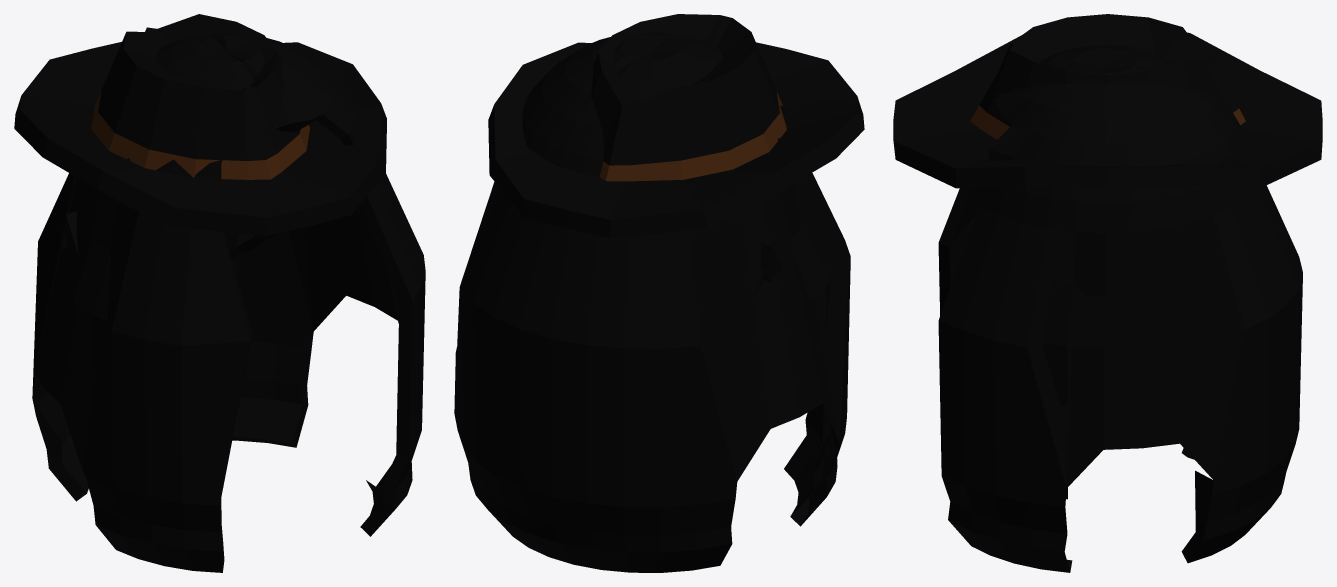
File: PersPartsPack2.fbx
3 views of the same model, side by side, from view 1: azimuth 30°, elevation 25°; view 2: azimuth 150°, elevation 25°; view 3: azimuth 270°, elevation 25° (orthographic). The views are drawn at different scales.
Visible parts, largest first — view 1: NesteaHairLong, Hat, Beard; view 2: NesteaHairLong, Hat, Beard; view 3: NesteaHairLong, Hat.
Boxes of the visible parts, box(x1,y1,x2,y2) form: NesteaHairLong: box(32, 33, 425, 572); Hat: box(14, 14, 386, 235); Beard: box(61, 211, 278, 258); NesteaHairLong: box(454, 32, 850, 572); Hat: box(488, 14, 864, 238); Beard: box(754, 243, 783, 297); NesteaHairLong: box(938, 44, 1302, 572); Hat: box(893, 14, 1322, 188).
Size of the model in its own units: 37.44 by 46.59 by 40.
